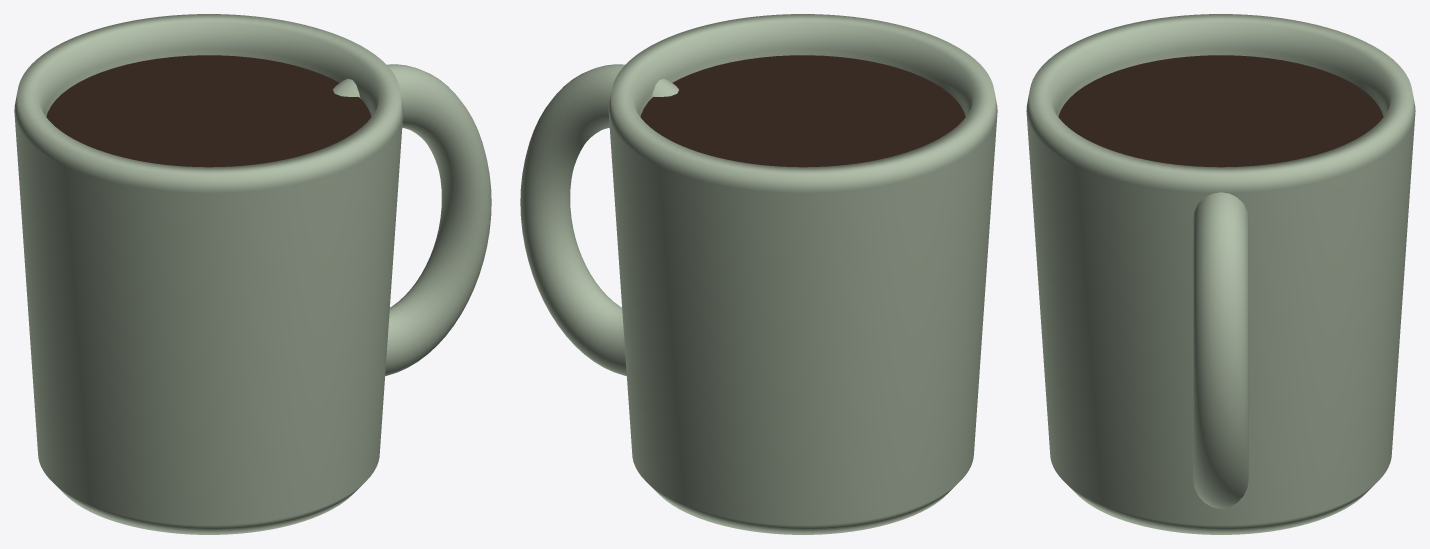
File: product.glb
3 views of the same model, side by side, from view 1: azimuth 30°, elevation 25°; view 2: azimuth 150°, elevation 25°; view 3: azimuth 270°, elevation 25° (orthographic).
Parts seen in each view (by area): view 1: ceramic_body, coffee, ceramic_handle; view 2: ceramic_body, coffee, ceramic_handle; view 3: ceramic_body, coffee, ceramic_handle.
Part boxes in pixels (x1,y1,x2,y2): ceramic_body: (14, 14, 403, 534); coffee: (46, 55, 371, 167); ceramic_handle: (333, 64, 491, 376); ceramic_body: (608, 14, 997, 534); coffee: (640, 55, 965, 167); ceramic_handle: (520, 64, 678, 376); ceramic_body: (1026, 14, 1415, 534); coffee: (1058, 55, 1383, 167); ceramic_handle: (1193, 192, 1248, 508).
Bounding box in the file's own units: 1.75 × 1.4 × 1.32.
